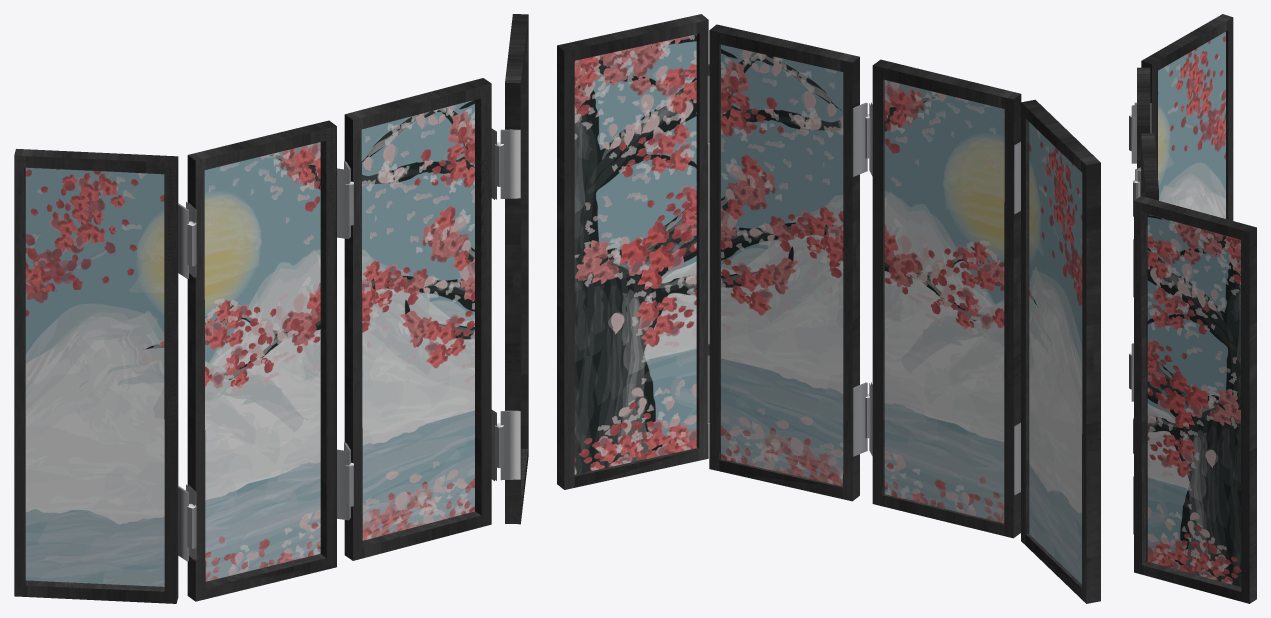
The model's file is NNJ0410009.fbx.
The picture shows the model from 3 angles, left to right: view 1: azimuth 30°, elevation 25°; view 2: azimuth 150°, elevation 25°; view 3: azimuth 270°, elevation 25°; orthographic projection. The views are drawn at different scales.
Parts seen in each view (by area): view 1: smNNJ0410009; view 2: smNNJ0410009; view 3: smNNJ0410009.
Part boxes in pixels (x1,y1,x2,y2): smNNJ0410009: (14,14,528,603); smNNJ0410009: (557,14,1100,603); smNNJ0410009: (1129,14,1256,603).
Size of the model in its own units: 339 by 269 by 83.93.
Materials: 1 (1 with a texture image).
